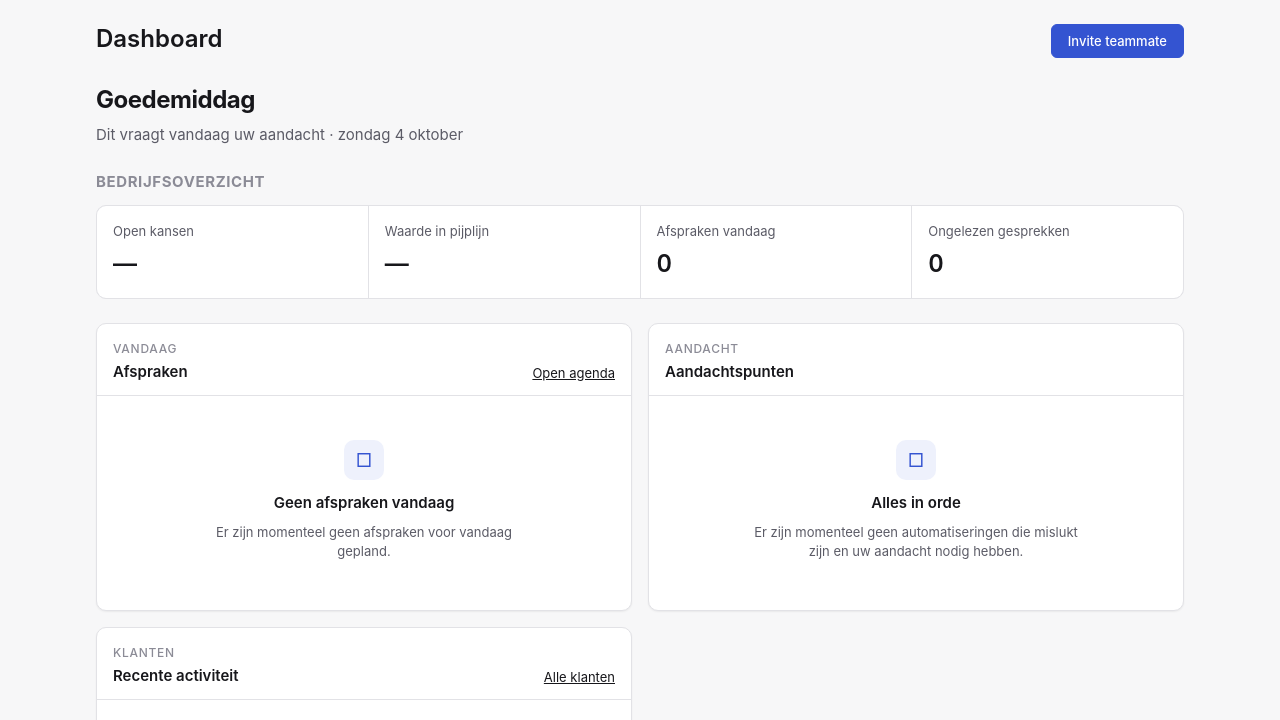
Scenario: DashboardPage (Dashboard / Command Center) › keeps the real client-business list and invite-teammate flow (existing functionality, not removed)
Click the button "Invite teammate": (1117, 41) [1051,24,1184,58]
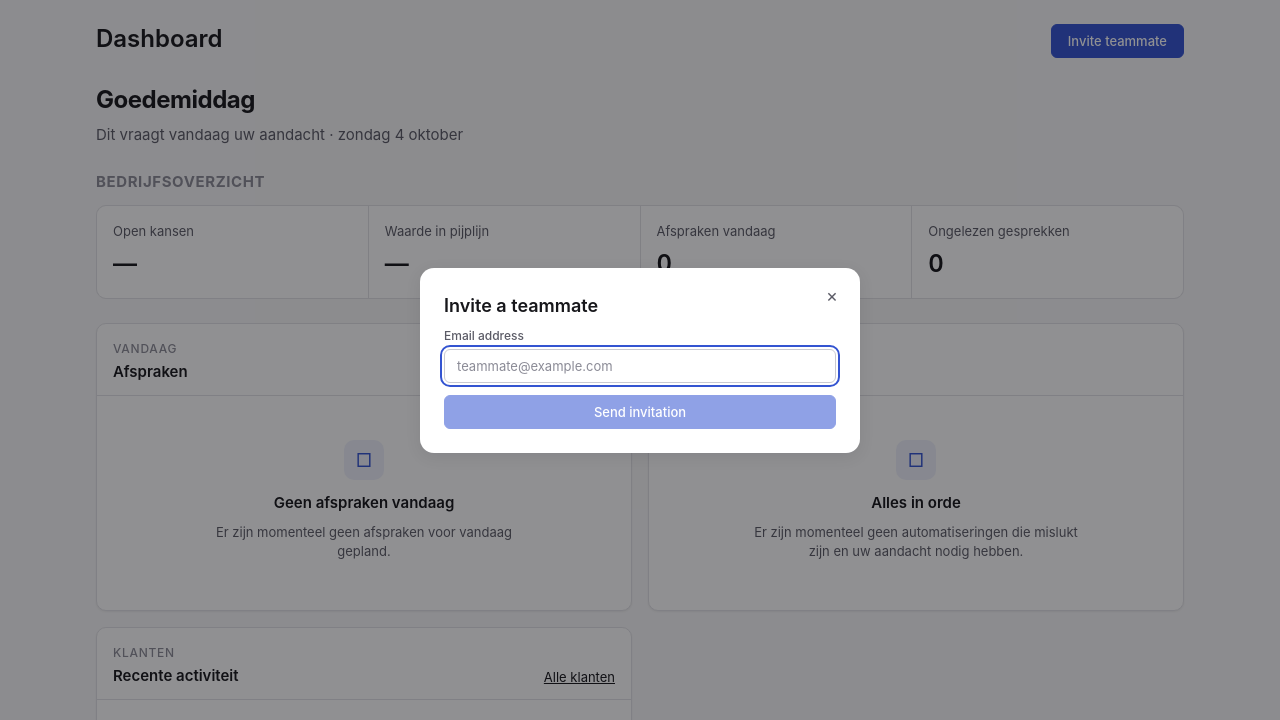
Check: the dialog "Invite a teammate" is shown, box [420,268,860,452]
